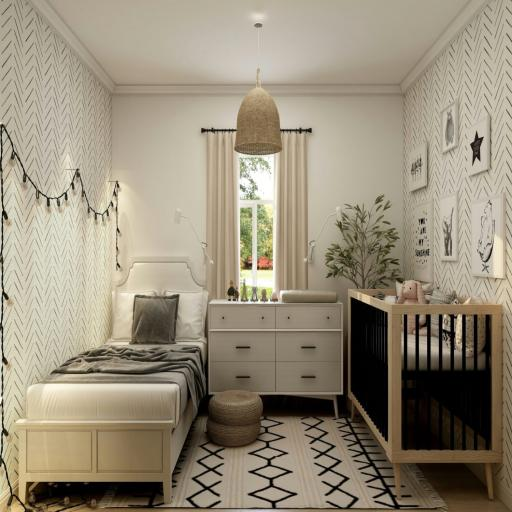crib: (348, 287, 503, 499)
